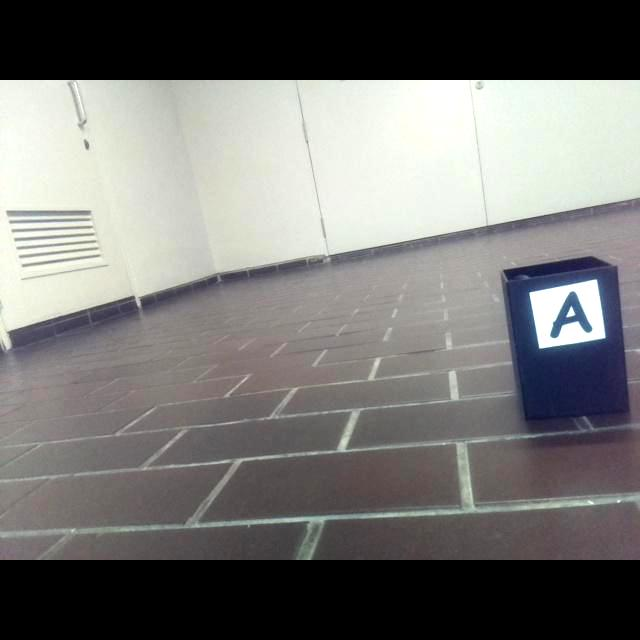A: (550, 292, 593, 339)
